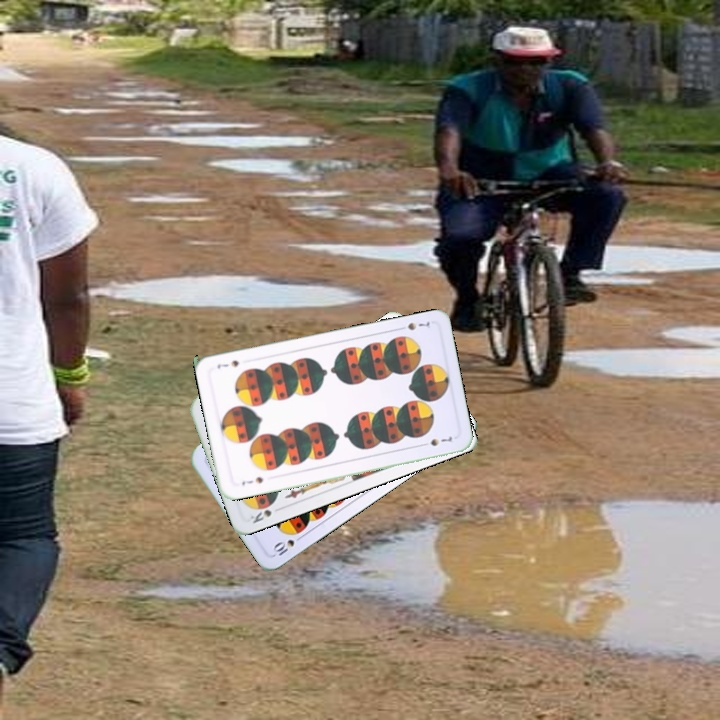S10: (268, 531, 306, 559)
S7: (394, 318, 432, 333), (238, 472, 266, 488)
SK: (246, 505, 274, 526)
